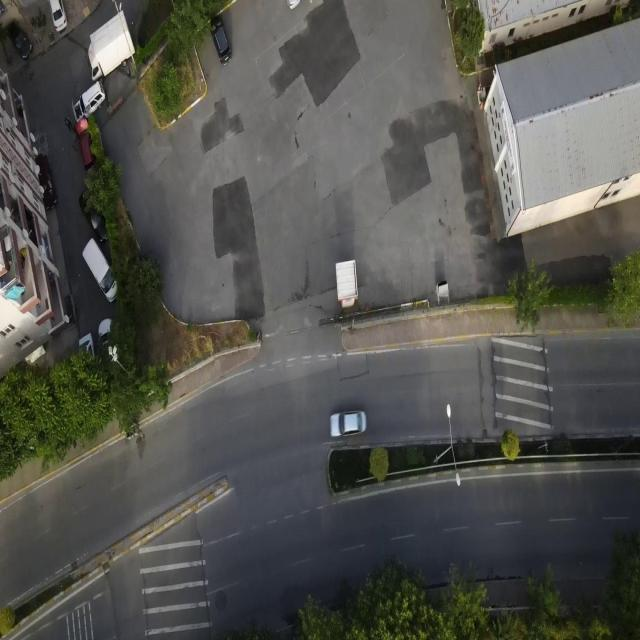p3rson: (64, 116, 72, 133), (17, 104, 23, 118), (72, 124, 76, 133)
